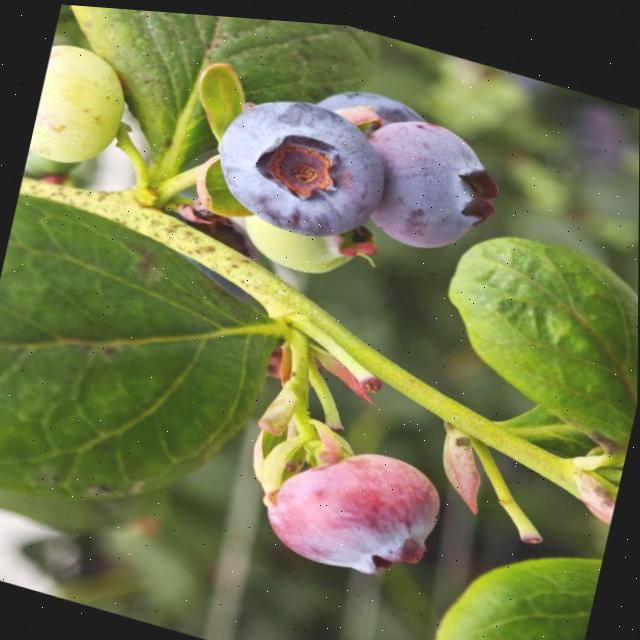RipeBlueBerry: (207, 77, 397, 250)
Semi-RipeBlueBerry: (255, 422, 446, 585), (349, 97, 506, 259)
UnripeBlueBerry: (29, 39, 132, 173)
